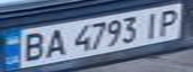3: (121, 14, 142, 44)
4: (69, 21, 93, 53)
7: (87, 19, 109, 51)
9: (103, 17, 127, 47)
A: (39, 26, 69, 60)
B: (15, 29, 51, 63)
I: (139, 8, 163, 38)
P: (154, 7, 184, 37)
